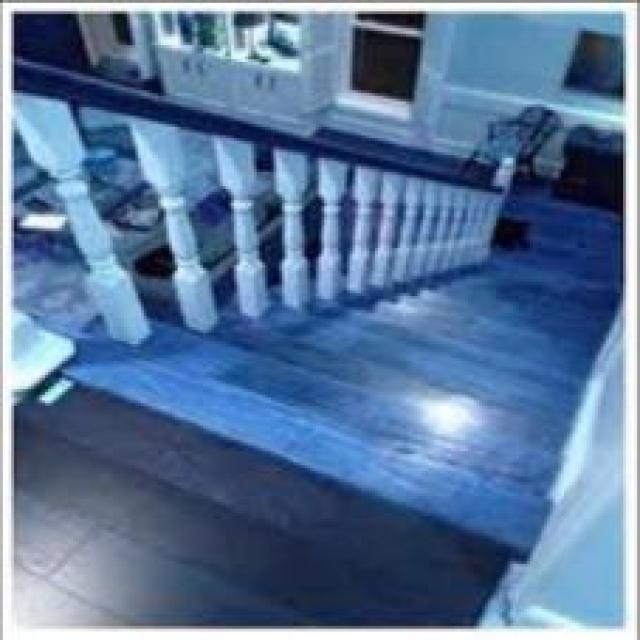stair: (72, 252, 543, 537)
